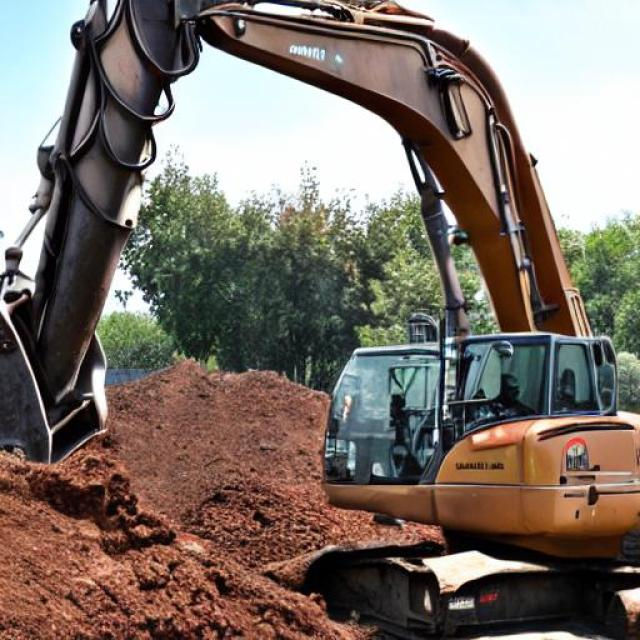excavator: (322, 187, 362, 272), (364, 218, 388, 268), (233, 281, 261, 311)
